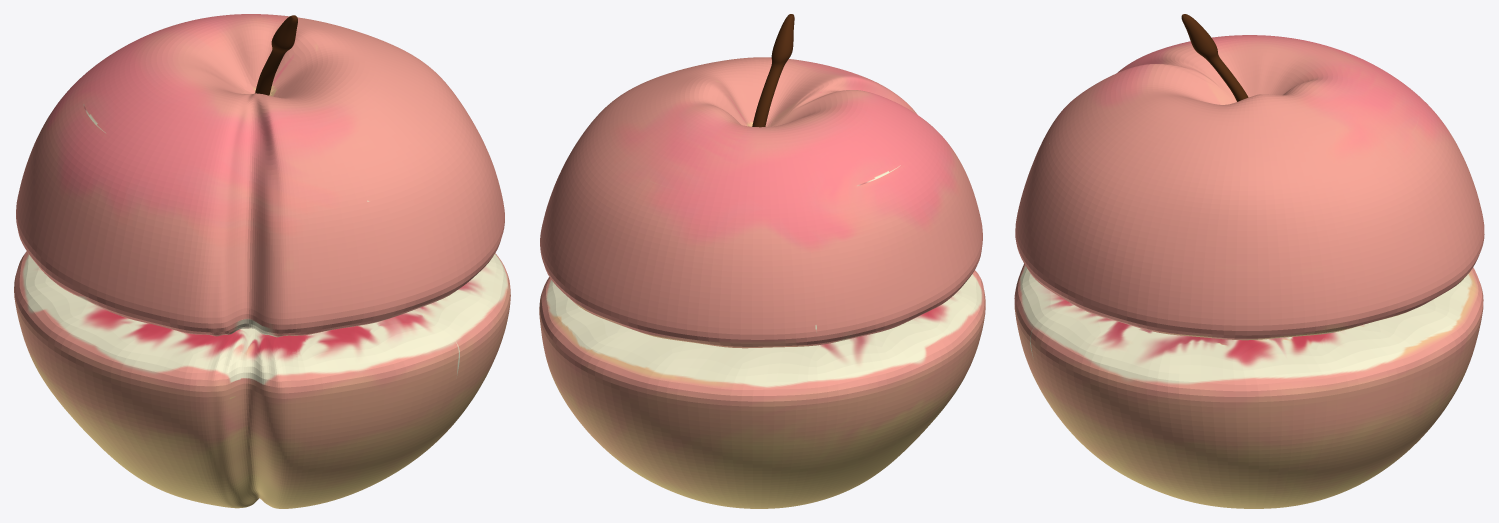
File: PeachSliced.fbx
3 renders of one model, left to right at view 1: azimuth 30°, elevation 25°; view 2: azimuth 150°, elevation 25°; view 3: azimuth 270°, elevation 25°, orthographic. The views are drawn at different scales.
Visible parts, largest first — view 1: Top, Bottom; view 2: Top, Bottom; view 3: Top, Bottom.
Part boxes in pixels (x1,y1,x2,y2): Top: (16, 14, 504, 337); Bottom: (14, 251, 510, 508); Top: (540, 14, 982, 348); Bottom: (539, 270, 985, 508); Top: (1015, 14, 1484, 340); Bottom: (1014, 264, 1483, 508).
Bounding box in the file's own units: 350 × 382 × 351.
